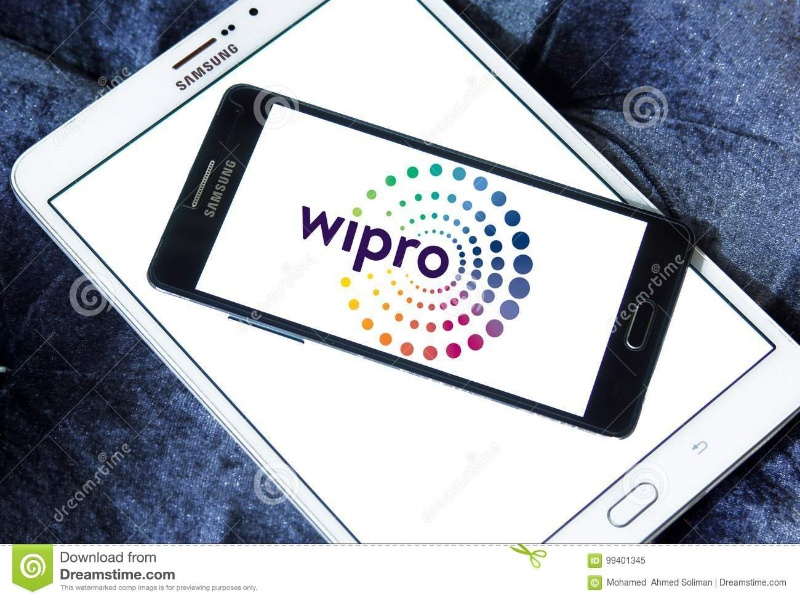wipro: (292, 158, 540, 367)
